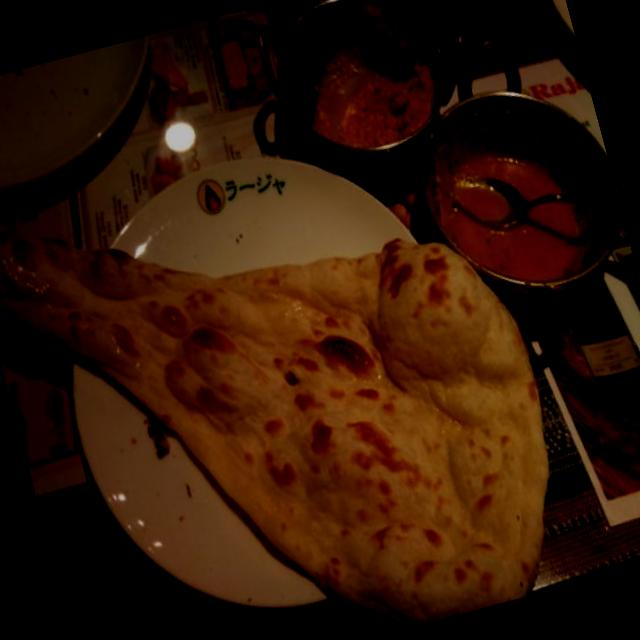Beef Curry: (338, 53, 438, 146)
